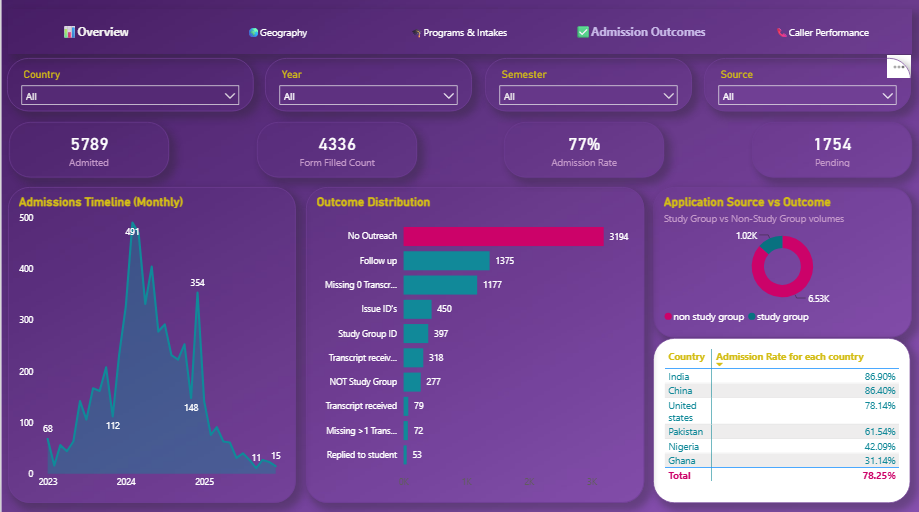

This screenshot's page, from the dashboard's own definition file:
{"tool":"powerbi","page":{"name":"✅Admission Outcomes","canvas":[1280,720],"ordinal":3},"visuals":[{"type":"advanceCardE03760C5AB684758B56AA29F9E6C257B","fields":{"mainMeasure":["Measures (2).Pending"]},"box":[1041.2,174,222.3,76.9],"z":0,"group":"g2"},{"type":"areaChart","title":"Admissions Timeline (Monthly)","fields":{"Y":["CountNonNull(Sheet1.Reference_ID)"],"Category":["Sheet1.Admit_Date.Variation.Date Hierarchy.Year","Sheet1.Admit_Date.Variation.Date Hierarchy.Month"]},"box":[9.2,263.7,399.2,437.7],"z":0,"group":"g3"},{"type":"donutChart","title":"Application Source vs Outcome","fields":{"Category":["Sheet1.Application_Source"],"Y":["CountNonNull(Sheet1.Reference_ID)"]},"box":[904.6,263.7,358.9,208.8],"z":0},{"type":"advanceCardE03760C5AB684758B56AA29F9E6C257B","fields":{"mainMeasure":["Measures (2).Admited"]},"box":[11,174,222.2,76.9],"z":1000,"group":"g2"},{"type":"barChart","title":"Outcome Distribution","fields":{"Category":["Sheet1.Outcome_1"],"Y":["CountNonNull(Sheet1.Reference_ID)"]},"box":[423,263.7,468.8,437.7],"z":1000,"group":"g3"},{"type":"tableEx","fields":{"Values":["Sheet1.Country","Measures (2).Admission Rate for each country"]},"box":[904.6,472.4,357.1,228.9],"z":1000},{"type":"pageNavigator","box":[9.2,16.5,1254.4,62.3],"z":2000},{"type":"advanceCardE03760C5AB684758B56AA29F9E6C257B","fields":{"mainMeasure":["Measures (2).Form Filled Count"]},"box":[354.4,174,222.2,76.9],"z":2000,"group":"g2"},{"type":"group","id":"g1","title":"Group 3","box":[9,85,1254.4,75.1],"z":3000},{"type":"advanceCardE03760C5AB684758B56AA29F9E6C257B","fields":{"mainMeasure":["Measures (2).Admission Rate"]},"box":[697.8,174,222.2,76.9],"z":3000,"group":"g2"},{"type":"group","id":"g2","title":"Group 1","box":[11,174,1252.5,76.9],"z":4000},{"type":"group","id":"g3","title":"Group 2","box":[9.2,263.7,882.6,437.7],"z":5000},{"type":"slicer","fields":{"Values":["Sheet1.Country"]},"box":[9,85,341.6,74.2],"z":6000,"group":"g1"},{"type":"slicer","fields":{"Values":["Sheet1.Intake_Season"]},"box":[671.7,85.5,287.1,74.5],"z":7000,"group":"g1"},{"type":"slicer","fields":{"Values":["Sheet1.Intake_Year"]},"box":[367.3,85.5,287.1,74.5],"z":8000,"group":"g1"},{"type":"slicer","fields":{"Values":["Sheet1.Application_Source"]},"box":[975.1,85.5,287.1,74.5],"z":9014,"group":"g1"}]}

Visuals, with their boxes in screenshot pixels (x1, y1, x2, y2), scaled from the page's 1280x720 canvas onto the 919x512 screenshot:
advanceCardE03760C5AB684758B56AA29F9E6C257B - Measures (2).Pending: l=748, t=124, r=907, b=178
"Admissions Timeline (Monthly)" areaChart: l=7, t=188, r=293, b=499
"Application Source vs Outcome" donutChart: l=649, t=188, r=907, b=336
advanceCardE03760C5AB684758B56AA29F9E6C257B - Measures (2).Admited: l=8, t=124, r=167, b=178
"Outcome Distribution" barChart: l=304, t=188, r=640, b=499
tableEx - Sheet1.Country x Measures (2).Admission Rate for each country: l=649, t=336, r=906, b=499
pageNavigator: l=7, t=12, r=907, b=56
advanceCardE03760C5AB684758B56AA29F9E6C257B - Measures (2).Form Filled Count: l=254, t=124, r=414, b=178
"Group 3" group: l=6, t=60, r=907, b=114
advanceCardE03760C5AB684758B56AA29F9E6C257B - Measures (2).Admission Rate: l=501, t=124, r=661, b=178
"Group 1" group: l=8, t=124, r=907, b=178
"Group 2" group: l=7, t=188, r=640, b=499
slicer - Sheet1.Country: l=6, t=60, r=252, b=113
slicer - Sheet1.Intake_Season: l=482, t=61, r=688, b=114
slicer - Sheet1.Intake_Year: l=264, t=61, r=470, b=114
slicer - Sheet1.Application_Source: l=700, t=61, r=906, b=114
